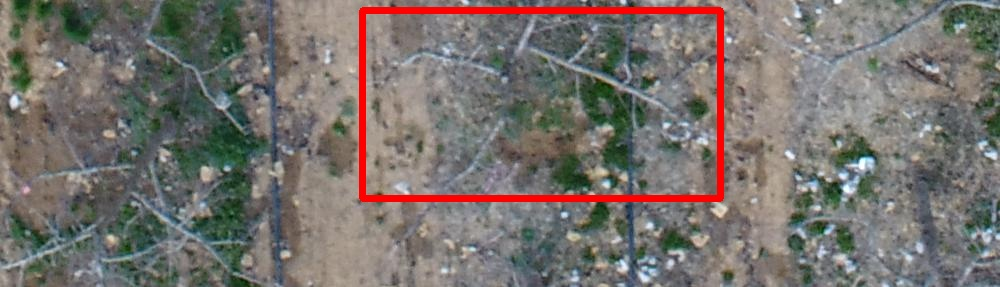apple: (362, 10, 720, 198)
